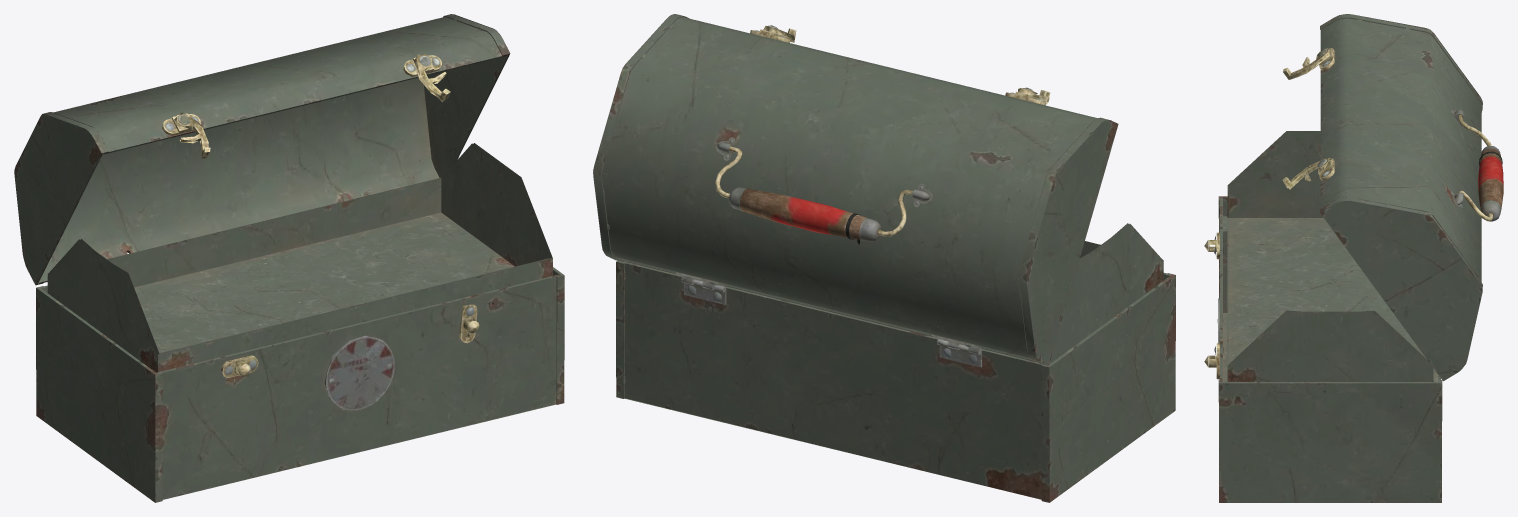
File: ph_toolbox.glb
The picture shows the model from 3 angles, left to right: view 1: azimuth 30°, elevation 25°; view 2: azimuth 150°, elevation 25°; view 3: azimuth 270°, elevation 25°; orthographic projection. The views are drawn at different scales.
Parts seen in each view (by area): view 1: metal_toolbox_lid, metal_toolbox, metal_toolbox_tray, metal_toolbox_handle_latch_r, metal_toolbox_handle_latch_l; view 2: metal_toolbox_lid, metal_toolbox, metal_toolbox_tray, metal_toolbox_handle; view 3: metal_toolbox_lid, metal_toolbox_tray, metal_toolbox, metal_toolbox_handle, metal_toolbox_handle_latch_l, metal_toolbox_handle_latch_r.
Boxes of the visible parts, x1,y1,x2,y2 form: metal_toolbox_lid: [14, 14, 510, 285]; metal_toolbox: [36, 267, 564, 502]; metal_toolbox_tray: [47, 143, 552, 372]; metal_toolbox_handle_latch_r: [414, 54, 450, 102]; metal_toolbox_handle_latch_l: [174, 112, 210, 158]; metal_toolbox_lid: [593, 14, 1118, 365]; metal_toolbox: [616, 260, 1175, 502]; metal_toolbox_tray: [628, 223, 1163, 363]; metal_toolbox_handle: [715, 146, 912, 244]; metal_toolbox_lid: [1317, 14, 1482, 381]; metal_toolbox_tray: [1227, 131, 1433, 381]; metal_toolbox: [1204, 196, 1442, 502]; metal_toolbox_handle: [1458, 114, 1503, 221]; metal_toolbox_handle_latch_l: [1283, 48, 1330, 79]; metal_toolbox_handle_latch_r: [1282, 157, 1330, 189].
Size of the model in its own units: 0.4 by 0.3054 by 0.2709.
Materials: 1 (1 with a texture image).
